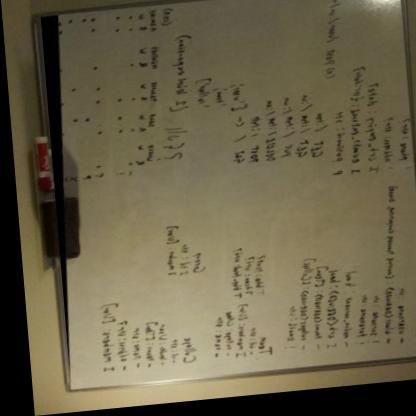Handwritten text: (318, 135, 349, 191), (155, 126, 186, 159), (330, 300, 349, 350), (92, 332, 111, 377), (375, 293, 391, 346), (249, 334, 273, 365), (385, 311, 405, 346), (347, 311, 365, 349), (361, 312, 378, 350), (157, 252, 177, 282), (346, 148, 362, 185), (174, 339, 193, 370), (403, 312, 416, 356), (362, 153, 380, 184), (259, 141, 277, 170), (185, 253, 205, 278), (228, 330, 241, 367), (361, 123, 377, 150), (318, 54, 339, 74), (362, 94, 380, 116), (293, 265, 310, 288), (305, 301, 319, 328), (243, 147, 259, 170), (337, 274, 352, 298), (226, 149, 243, 170), (379, 145, 392, 172), (320, 300, 332, 329), (291, 326, 306, 349), (109, 342, 124, 365), (393, 150, 408, 173), (291, 143, 306, 165), (291, 298, 304, 322), (280, 326, 293, 350), (276, 149, 293, 167), (306, 146, 322, 165), (216, 335, 229, 356), (316, 333, 333, 349), (322, 274, 336, 292), (218, 312, 230, 333), (204, 336, 216, 357), (308, 273, 321, 292), (124, 345, 137, 364), (150, 326, 161, 345), (159, 231, 174, 244), (230, 310, 244, 323), (162, 340, 175, 353), (207, 320, 219, 332)
